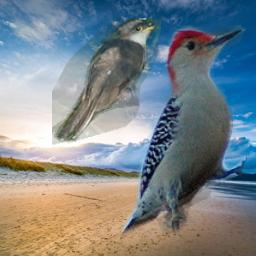Cuckoo: (52, 18, 161, 145)
Woodpecker: (118, 25, 247, 239)
